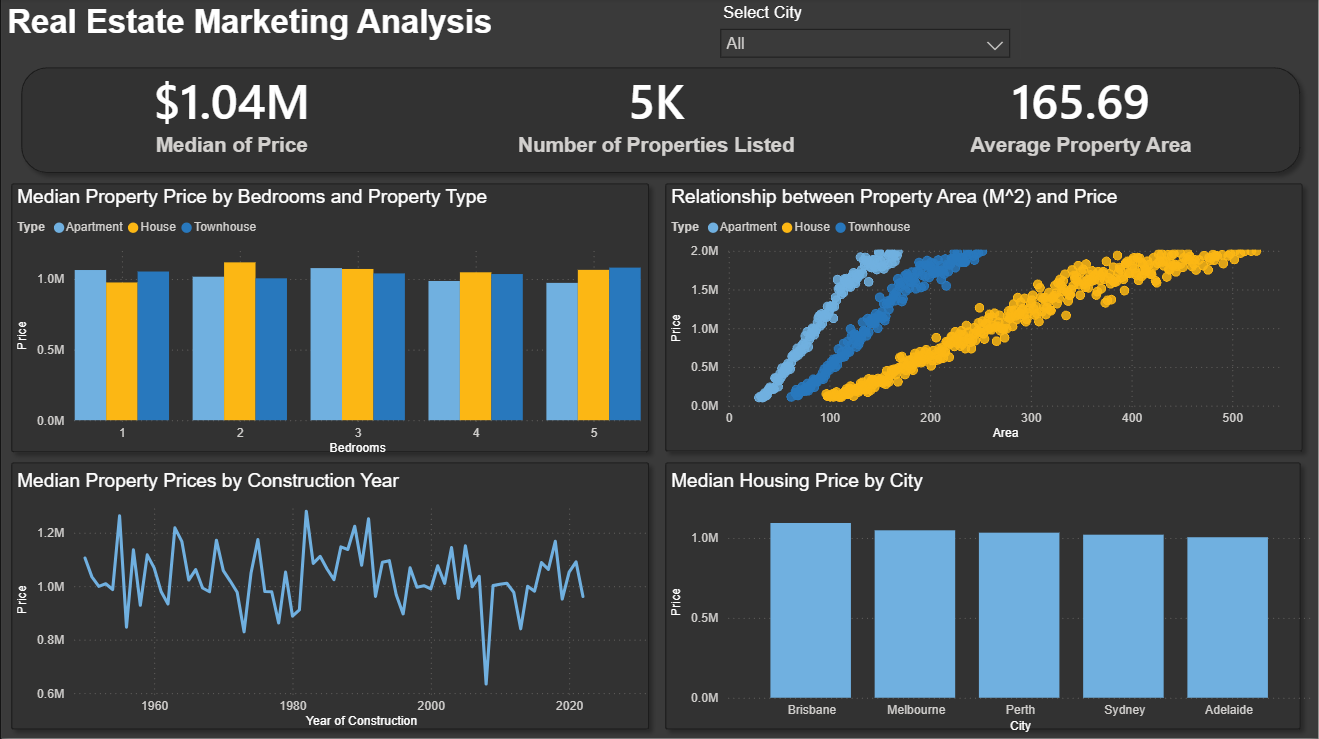

The page's visual inventory and layout, read from the dashboard file:
{"tool":"powerbi","page":{"name":"Real Estate Analysis","canvas":[1280,720],"ordinal":0},"visuals":[{"type":"group","id":"g1","title":"Group 1","box":[0,58,1274.1,662.6],"z":0},{"type":"textbox","box":[0,0,666.5,57.5],"z":1000},{"type":"slicer","fields":{"Values":["real_estate_analysis_cleaned.City"]},"box":[688.6,0,301.5,59.3],"z":2000},{"type":"scatterChart","title":"Relationship between Property Area (M^2) and Price","fields":{"Series":["real_estate_analysis_cleaned.Type"],"X":["real_estate_analysis_cleaned.Area_m2"],"Y":["real_estate_analysis_cleaned.Median_Property_Price"]},"box":[646.2,182.7,615.8,252.6],"z":3000},{"type":"clusteredColumnChart","title":"Median Property Price by Bedrooms and Property Type","fields":{"Category":["real_estate_analysis_cleaned.Bedrooms"],"Series":["real_estate_analysis_cleaned.Type"],"Y":["real_estate_analysis_cleaned.Median_Property_Price"]},"box":[10,182.9,616.5,266.8],"z":4000},{"type":"lineChart","title":"Median Property Prices by Construction Year","fields":{"Category":["real_estate_analysis_cleaned.Year_Built"],"Y":["real_estate_analysis_cleaned.Median_Property_Price"]},"box":[10.1,459,628.2,256],"z":5000},{"type":"clusteredColumnChart","title":"Median Housing Price by City","fields":{"Category":["real_estate_analysis_cleaned.City"],"Y":["real_estate_analysis_cleaned.Median_Property_Price"]},"box":[646.2,459,633.8,260.5],"z":6000},{"type":"cardVisual","fields":{"Data":["Median(real_estate_analysis_cleaned.Price)","CountNonNull(real_estate_analysis_cleaned.Index)","Avg(real_estate_analysis_cleaned.Area_m2)"]},"box":[3.9,51.6,1266.4,119.6],"z":7000},{"type":"shape","box":[0,170.8,638.3,279.7],"z":7000,"group":"g1"},{"type":"shape","box":[10,58,1262,120.9],"z":8000,"group":"g1"},{"type":"shape","box":[636.1,170.8,638,279],"z":9000,"group":"g1"},{"type":"shape","box":[0,442.6,638.3,278],"z":10000,"group":"g1"},{"type":"shape","box":[636.1,442.6,636.1,278],"z":11000,"group":"g1"}]}

Visuals, with their boxes in screenshot pixels (x1, y1, x2, y2), scaled from the page's 1280x720 canvas onto the 1319x739 screenshot:
"Group 1" group: <bbox>0, 60, 1313, 738</bbox>
textbox: <bbox>0, 0, 687, 59</bbox>
slicer - real_estate_analysis_cleaned.City: <bbox>710, 0, 1020, 61</bbox>
"Relationship between Property Area (M^2) and Price" scatterChart: <bbox>666, 188, 1300, 447</bbox>
"Median Property Price by Bedrooms and Property Type" clusteredColumnChart: <bbox>10, 188, 646, 462</bbox>
"Median Property Prices by Construction Year" lineChart: <bbox>10, 471, 658, 734</bbox>
"Median Housing Price by City" clusteredColumnChart: <bbox>666, 471, 1318, 738</bbox>
cardVisual - Median(real_estate_analysis_cleaned.Price) x CountNonNull(real_estate_analysis_cleaned.Index): <bbox>4, 53, 1309, 176</bbox>
shape: <bbox>0, 175, 658, 462</bbox>
shape: <bbox>10, 60, 1311, 184</bbox>
shape: <bbox>655, 175, 1313, 462</bbox>
shape: <bbox>0, 454, 658, 738</bbox>
shape: <bbox>655, 454, 1311, 738</bbox>
